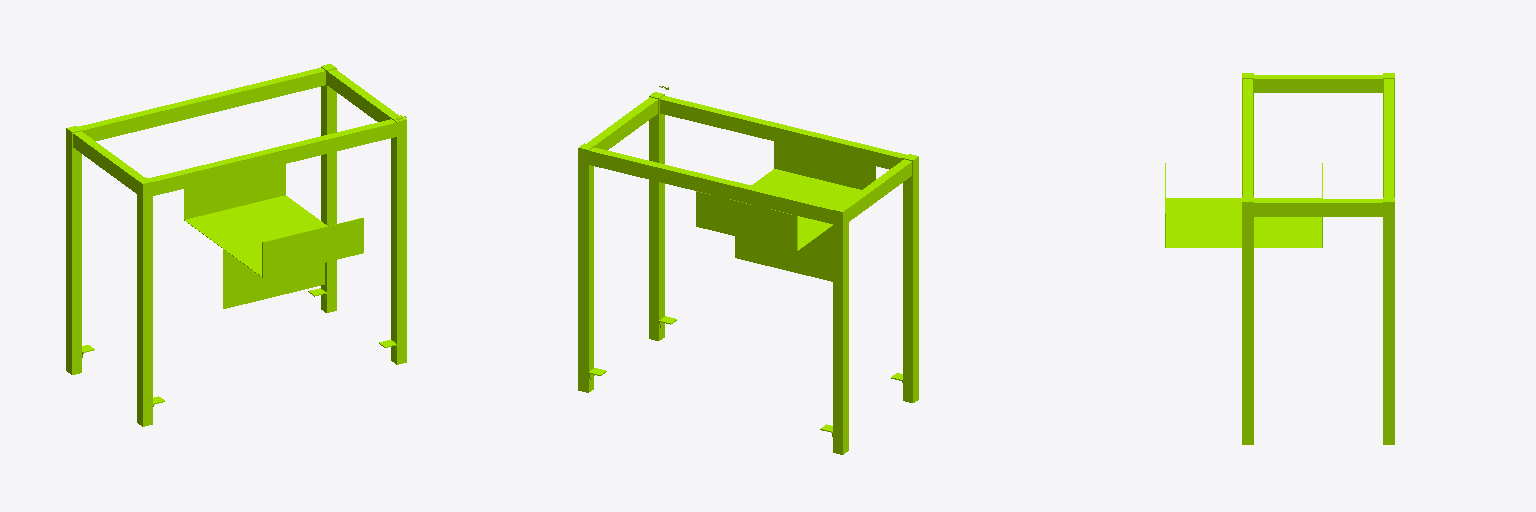
Rendered from metal.obj.
3 renders of one model, left to right at view 1: azimuth 30°, elevation 25°; view 2: azimuth 150°, elevation 25°; view 3: azimuth 270°, elevation 25°, orthographic.
Visible parts, largest first — view 1: metal_mesh; view 2: metal_mesh; view 3: metal_mesh.
Boxes of the visible parts, x1=… form: metal_mesh: x1=66, y1=64, x2=406, y2=426; metal_mesh: x1=578, y1=86, x2=918, y2=454; metal_mesh: x1=1165, y1=73, x2=1394, y2=444.
Size of the model in its own units: 78 by 70.41 by 58.82.